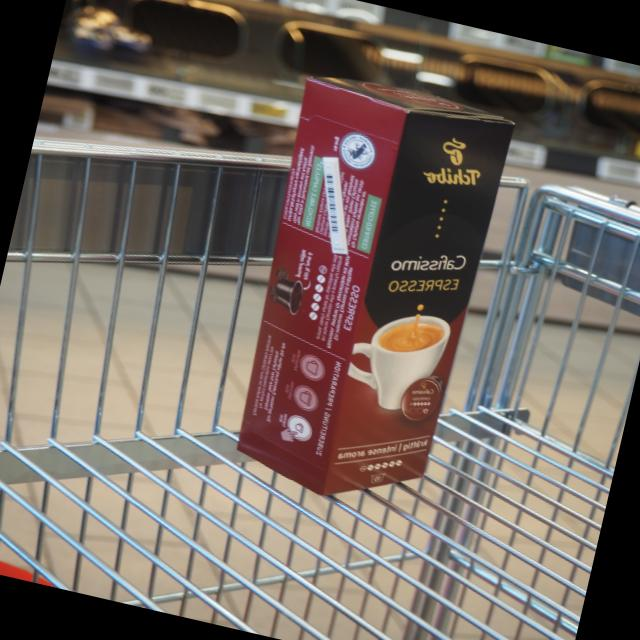Simo Es Kraft: (315, 101, 521, 499)
